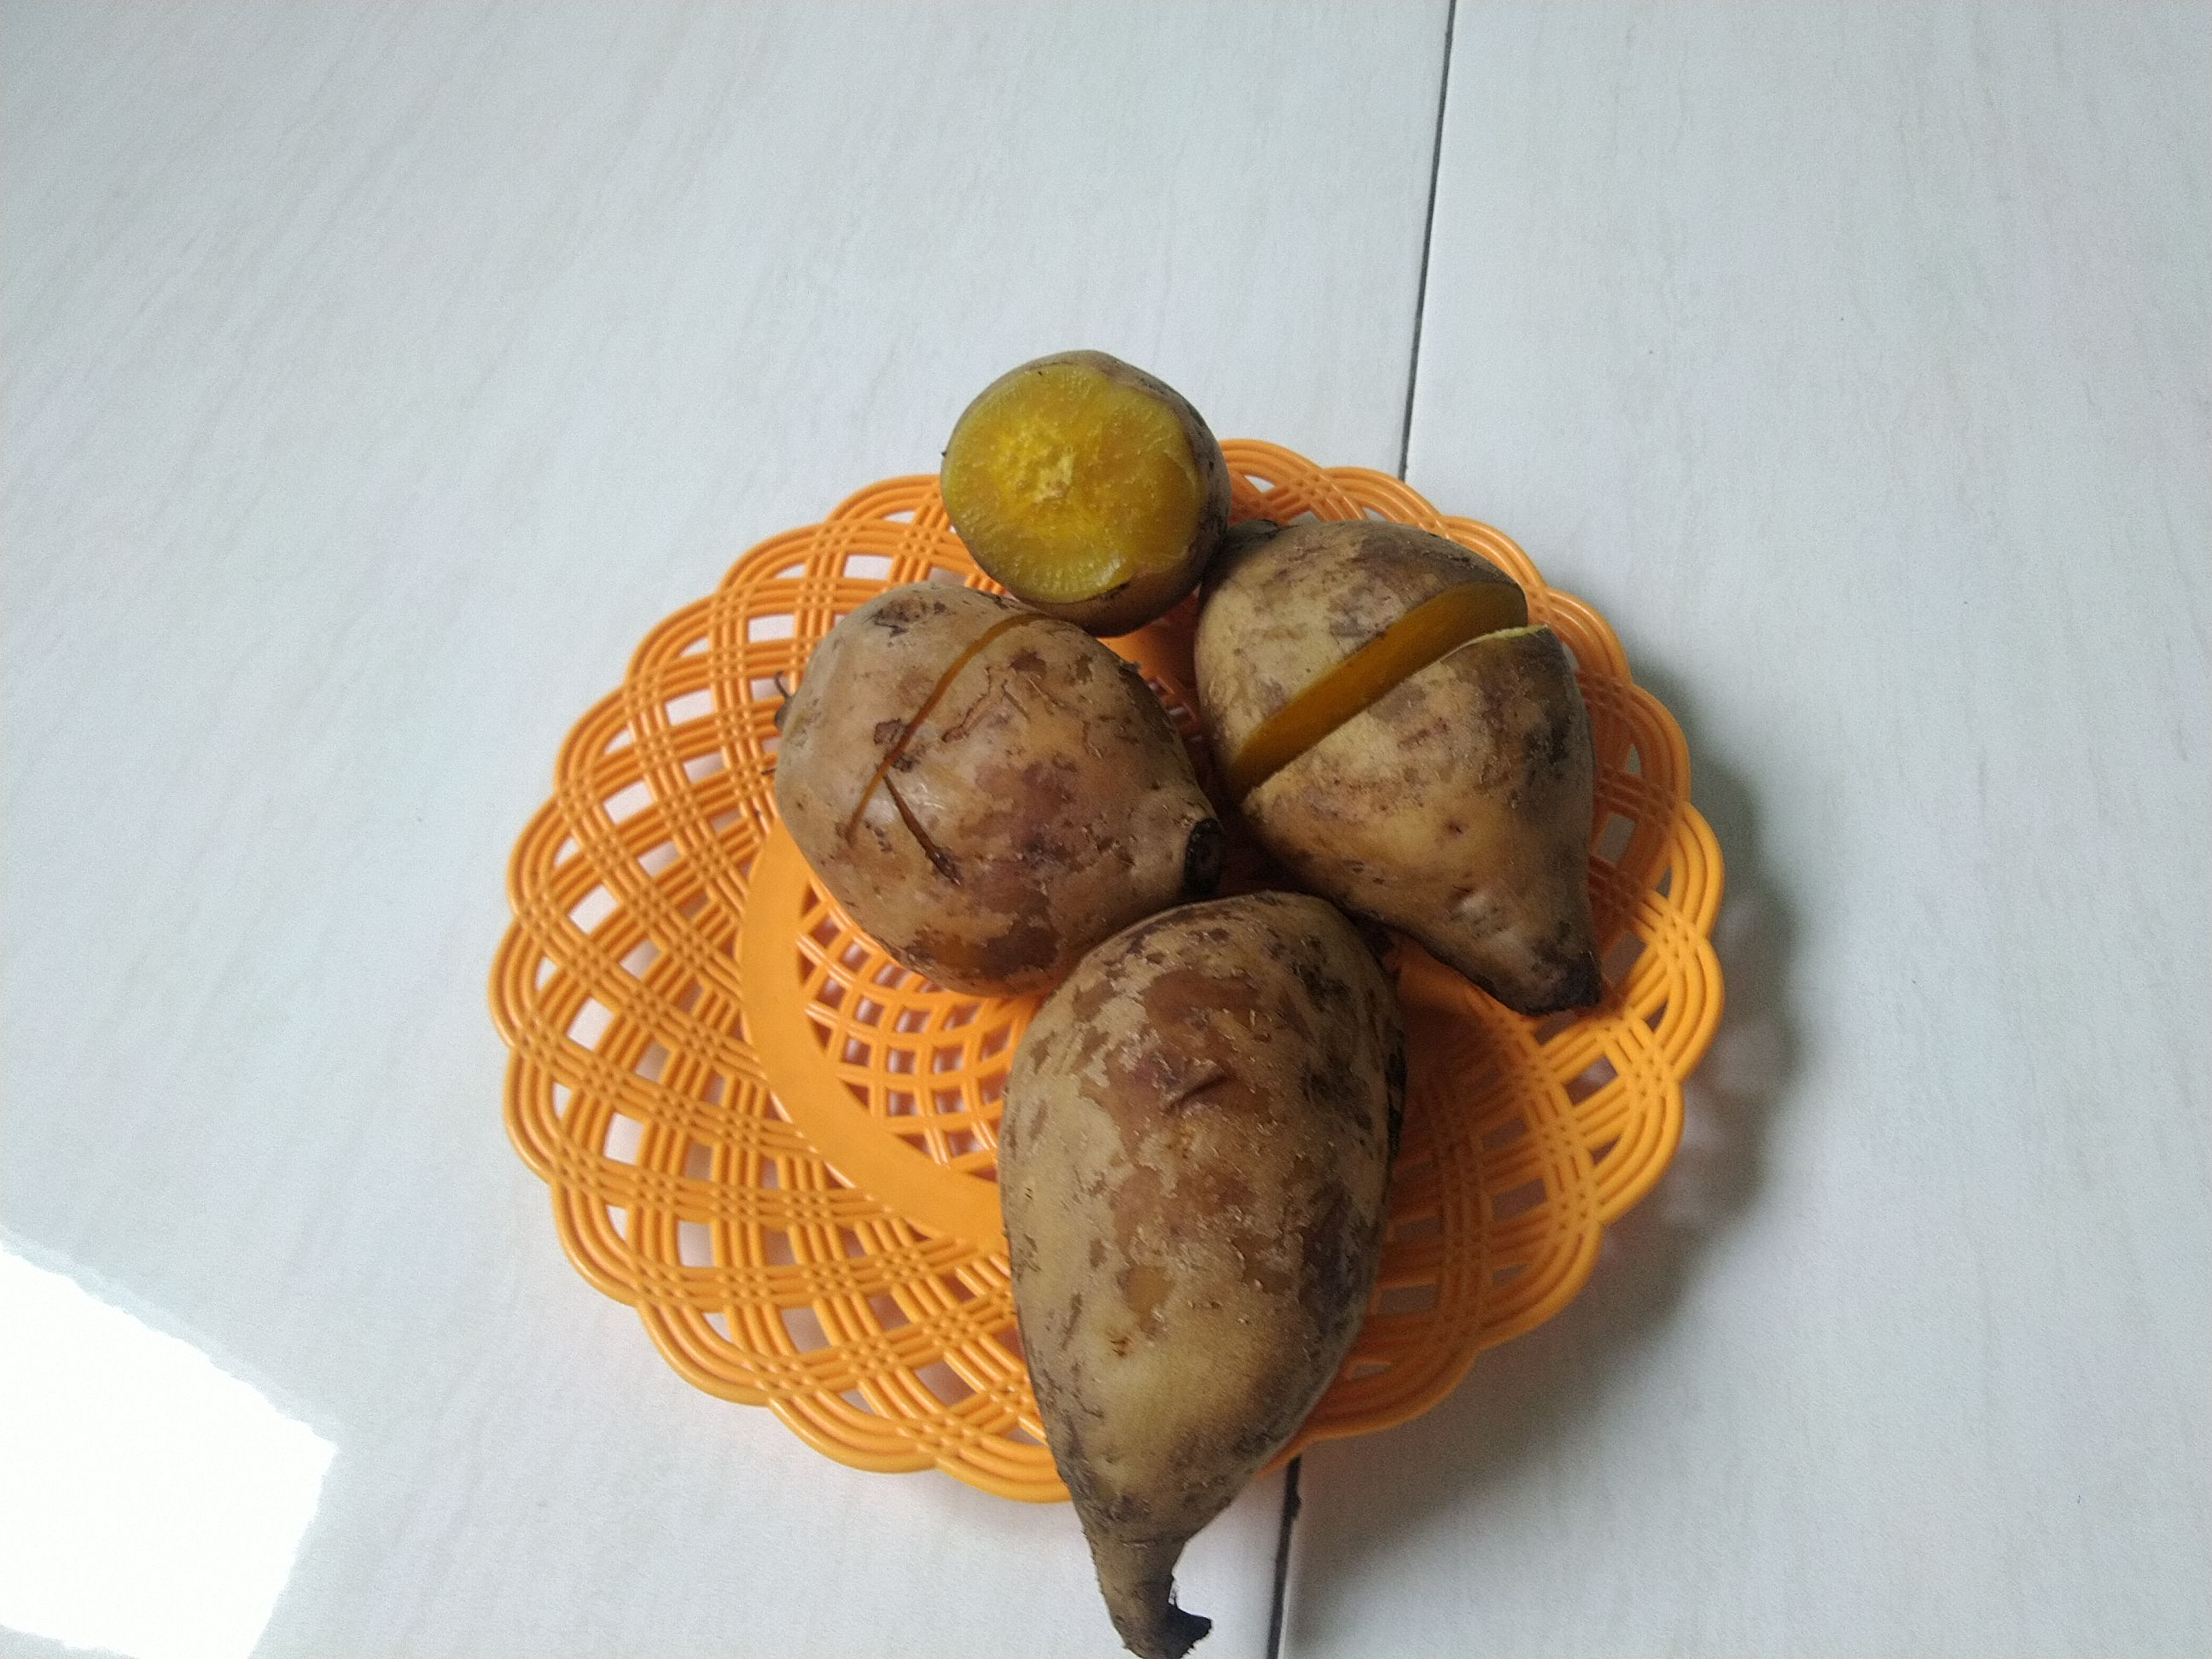ubi kuning: (1003, 887, 1400, 1659), (1181, 505, 1639, 1054), (763, 572, 1231, 995), (916, 328, 1249, 638)
